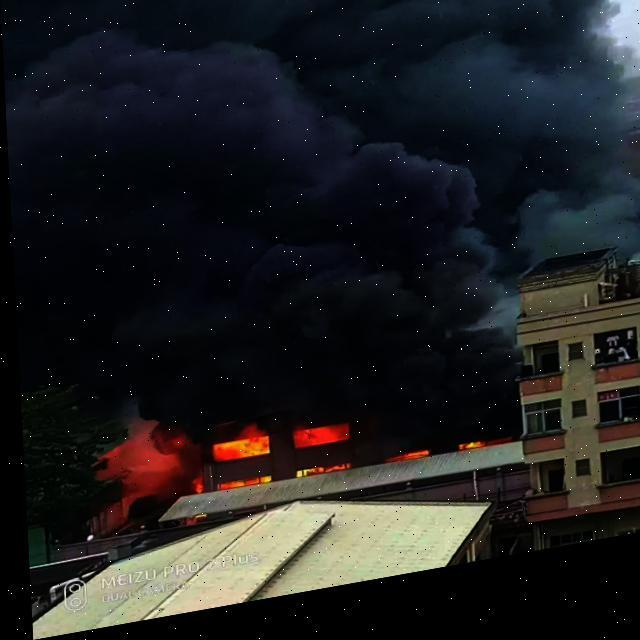Fire: (189, 411, 352, 501)
